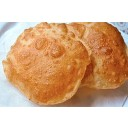poori: (1, 22, 89, 104), (68, 23, 128, 89)
